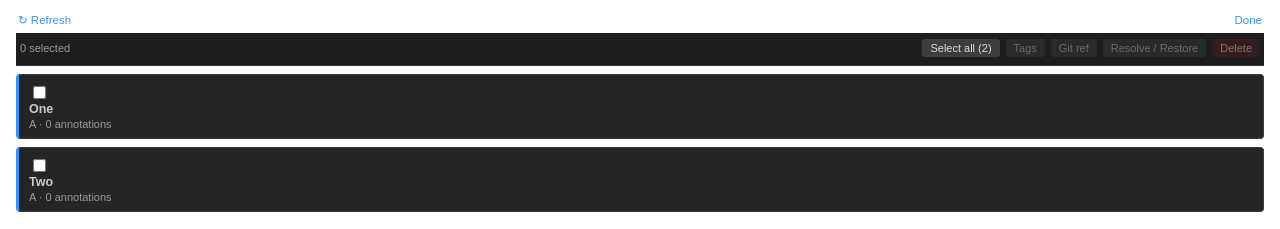
Test: App.svelte › selects all visible groups then clears the selection
Click the button with test id "bulk-select-all" at (961, 48), box [922,39,1000,57]
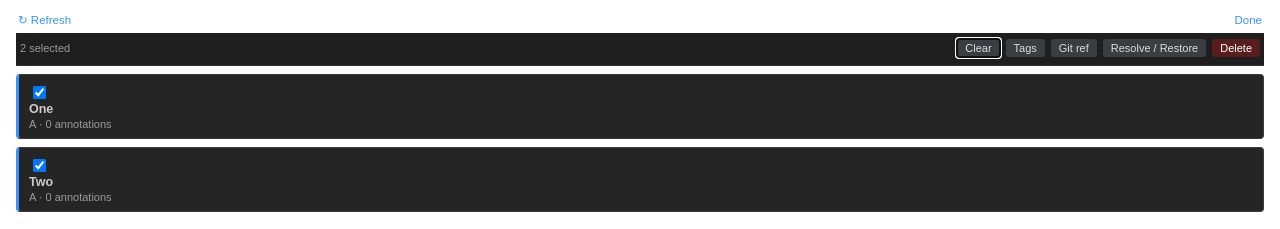
Result: the text with test id "bulk-count" reads "2 selected" at [20,42,70,54]
Result: the button with test id "bulk-select-all" reads "Clear"
Click the button with test id "bulk-select-all" at (978, 48), box [957,39,1000,57]
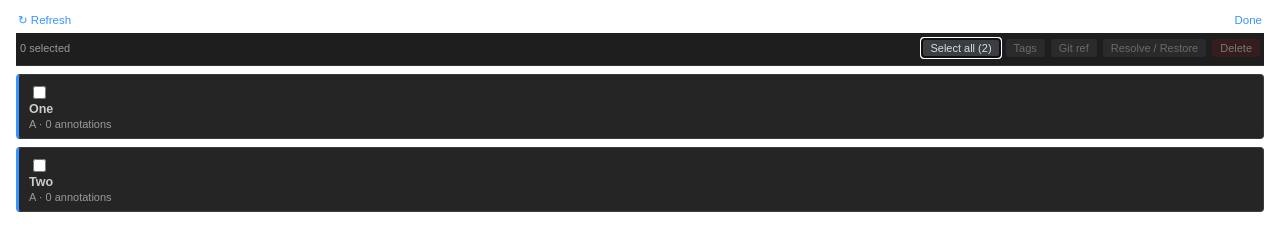
Result: the text with test id "bulk-count" reads "0 selected" at [20,42,70,54]
